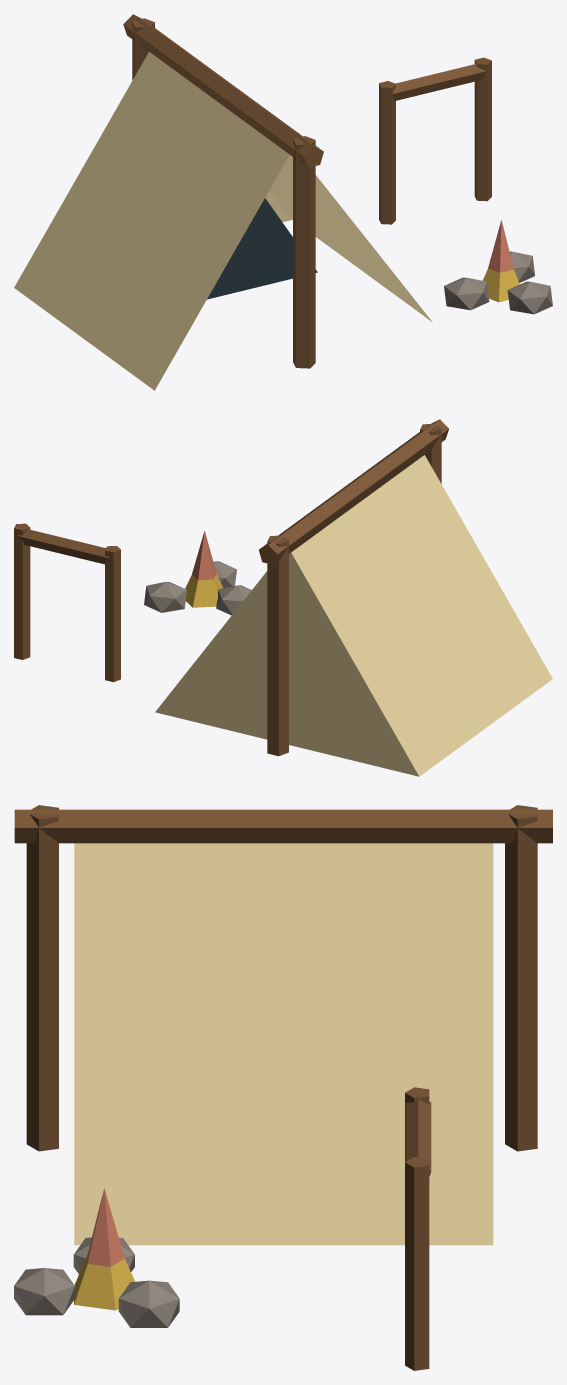
File: imp_camp.glb
3 views of the same model, one above another, from view 1: azimuth 30°, elevation 25°; view 2: azimuth 150°, elevation 25°; view 3: azimuth 270°, elevation 25° (orthographic). The views are drawn at different scales.
Visible parts, largest first — view 1: imp_camp; view 2: imp_camp; view 3: imp_camp.
Part boxes in pixels (box(x1,y1,x2,y2)): imp_camp: box(14, 14, 552, 390); imp_camp: box(14, 419, 552, 776); imp_camp: box(14, 805, 552, 1370).
Bounding box in the file's own units: 0.5186 × 0.247 × 0.3604.
